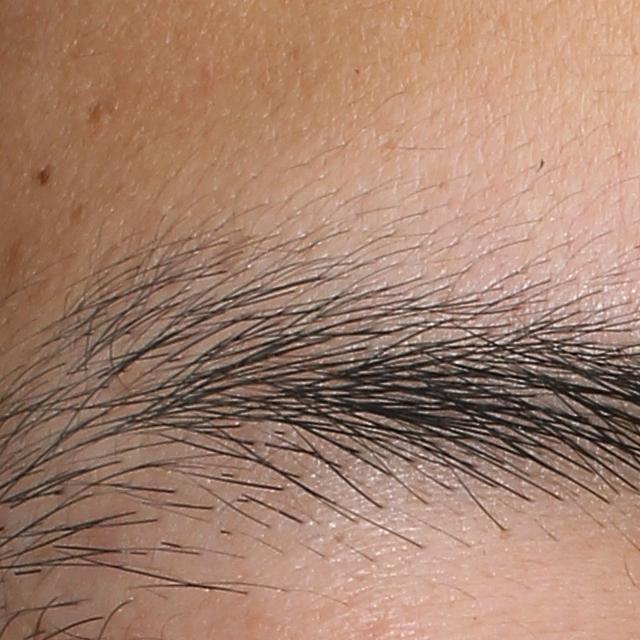nevus: (35, 163, 57, 188)
